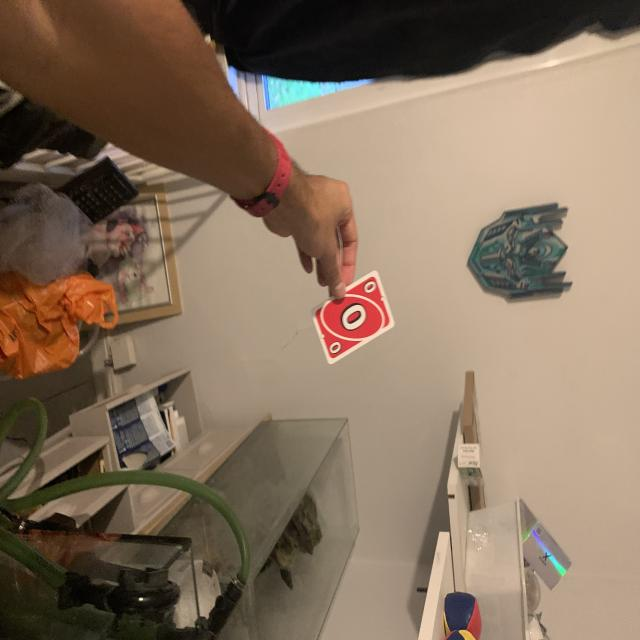lred-0: (360, 280, 378, 298)
